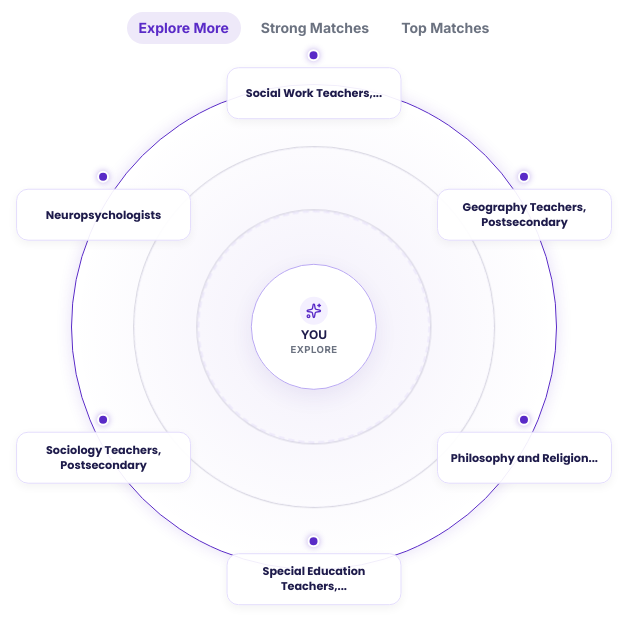
it: CareerRingMap › still switches rings via the tabs
The width and height of the screenshot is (629, 623).
Click the tab "Strong Matches" at (315, 28), box [249, 12, 381, 44]
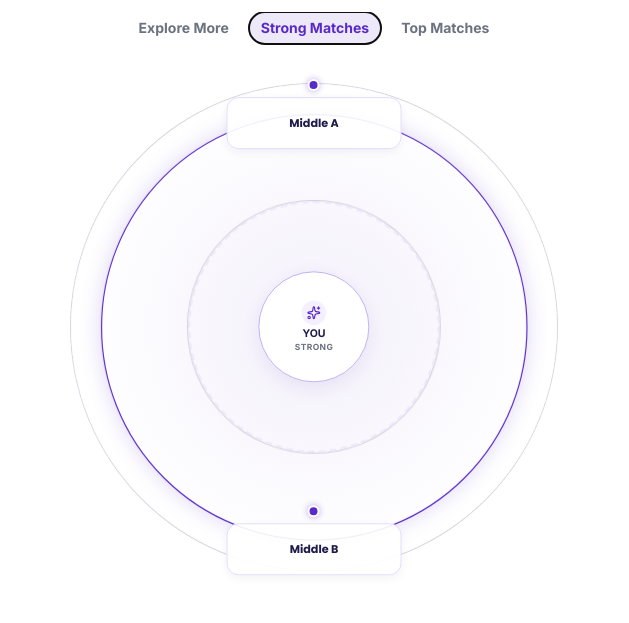
Now the text "Middle A" is shown, box [289, 116, 339, 130]
